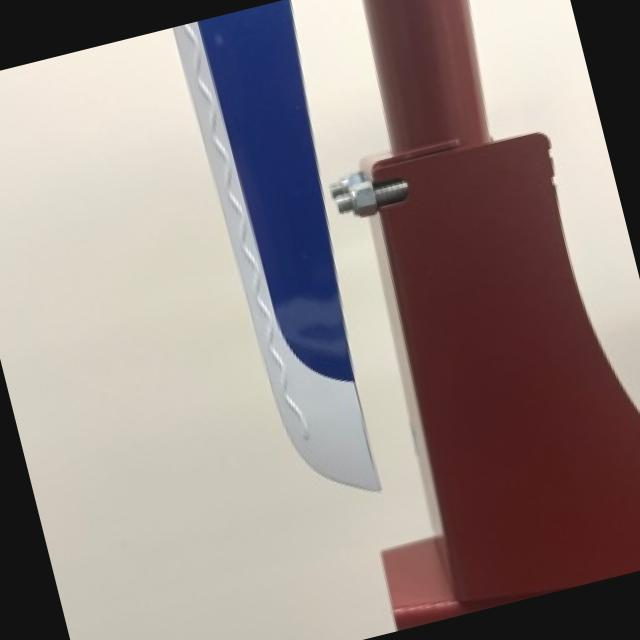healthy: (331, 0, 640, 628), (172, 0, 372, 485)
